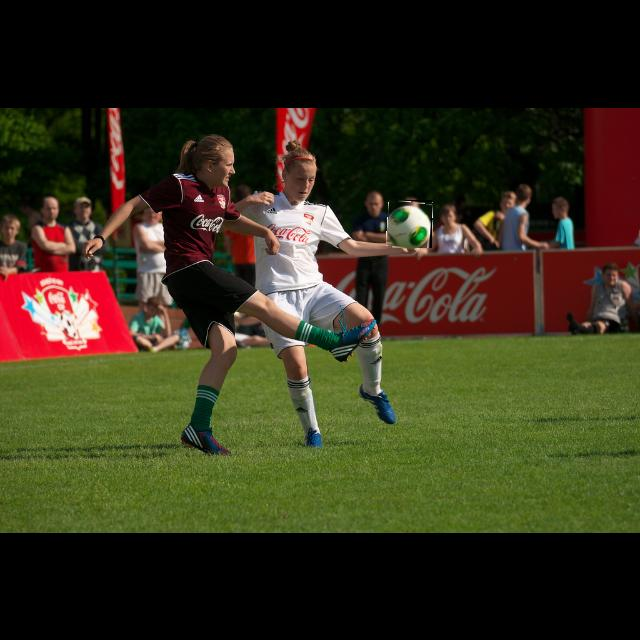Football: (388, 200, 432, 248)
